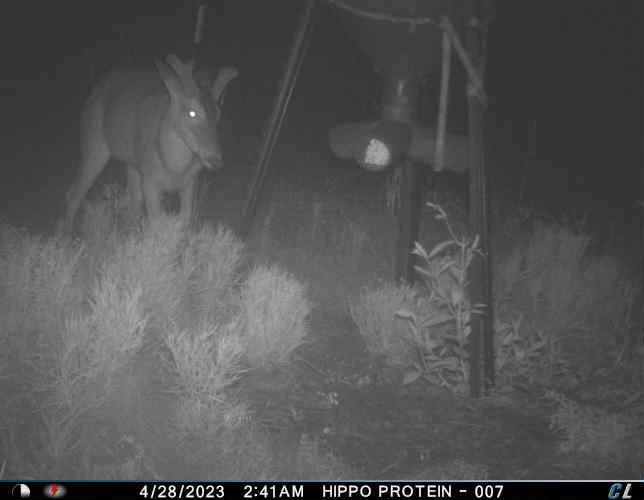Deer: (44, 51, 241, 239)
